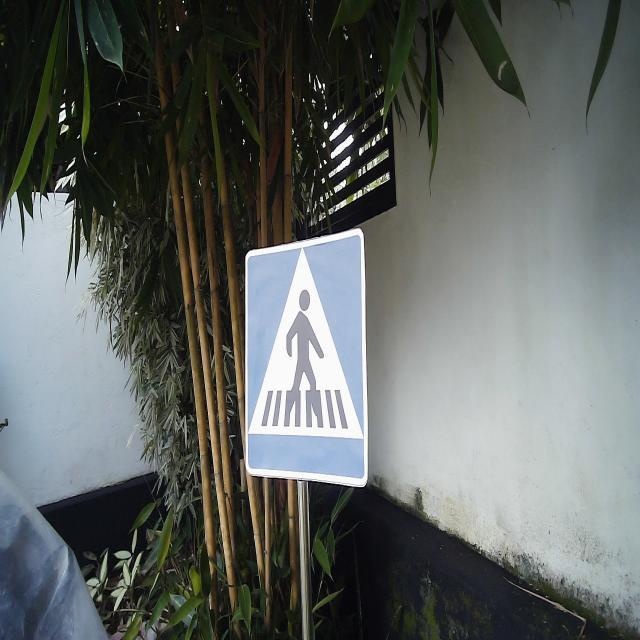crosswalk_sign: (242, 224, 370, 491)
